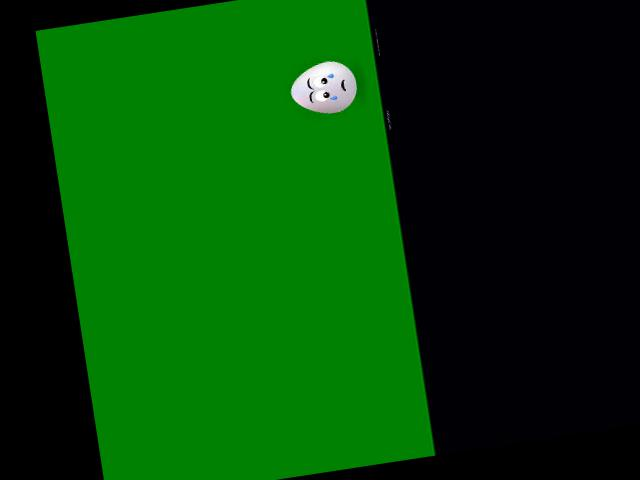egg: (287, 57, 360, 118)
